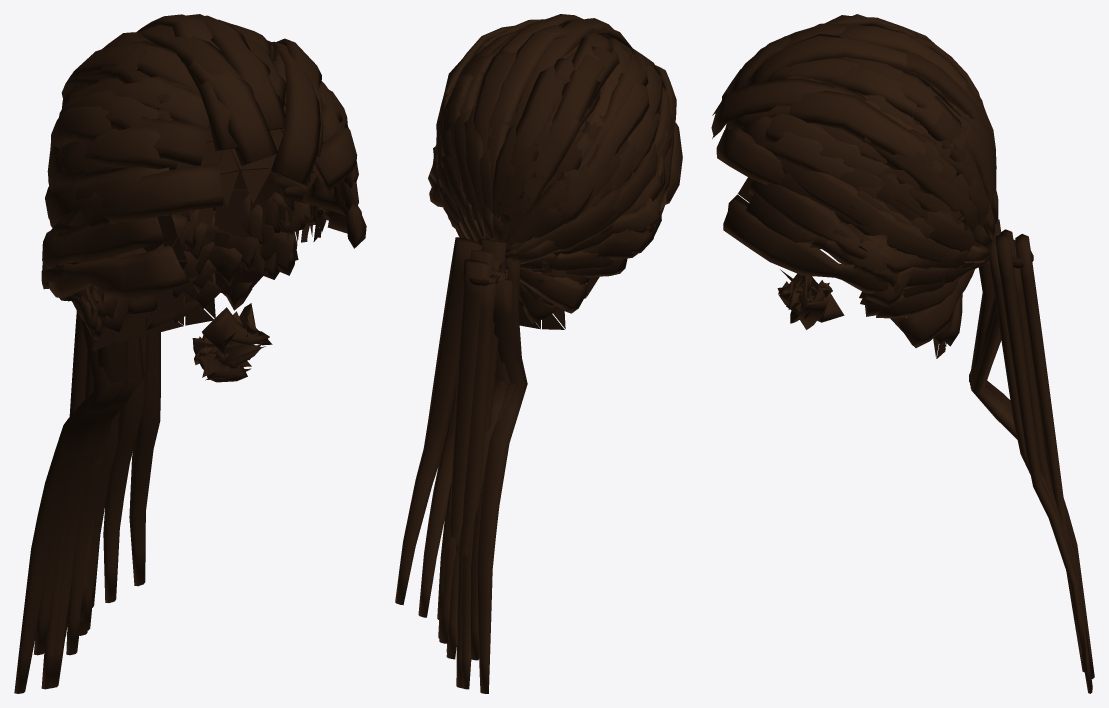
Rendered from kopf.haar.zopf_eng.glb.
3 views of the same model, side by side, from view 1: azimuth 30°, elevation 25°; view 2: azimuth 150°, elevation 25°; view 3: azimuth 270°, elevation 25° (orthographic). The views are drawn at different scales.
Parts seen in each view (by area): view 1: haar; view 2: haar; view 3: haar.
Boxes of the visible parts, box(x1,y1,x2,y2) form: haar: box(14, 14, 366, 693); haar: box(395, 14, 682, 693); haar: box(711, 14, 1094, 693).
Bounding box in the file's own units: 0.1883 × 0.4606 × 0.2392.
